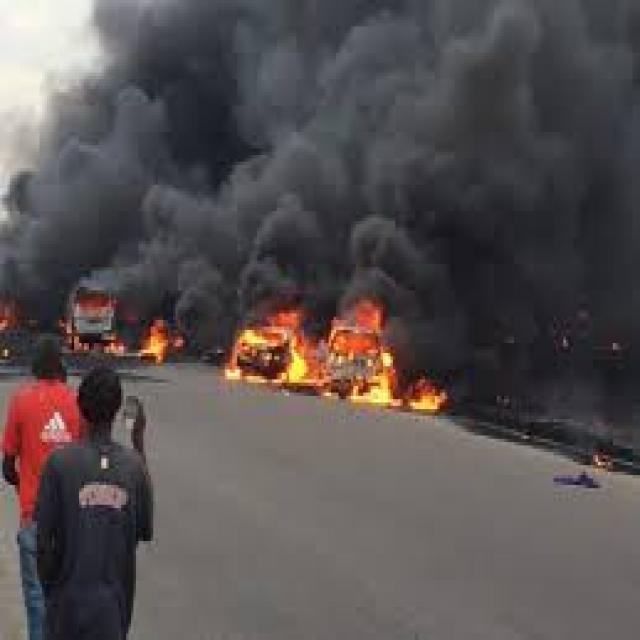fire: (222, 304, 319, 399), (322, 300, 396, 412), (138, 317, 190, 363), (400, 376, 450, 416)
smoke: (2, 3, 640, 304)
